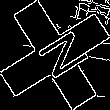N_SW: (23, 24, 87, 86)
